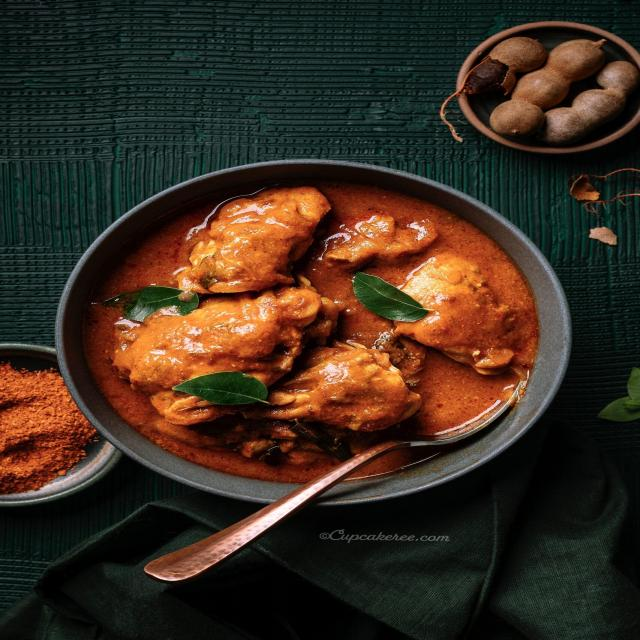chicken: (98, 184, 562, 495)
